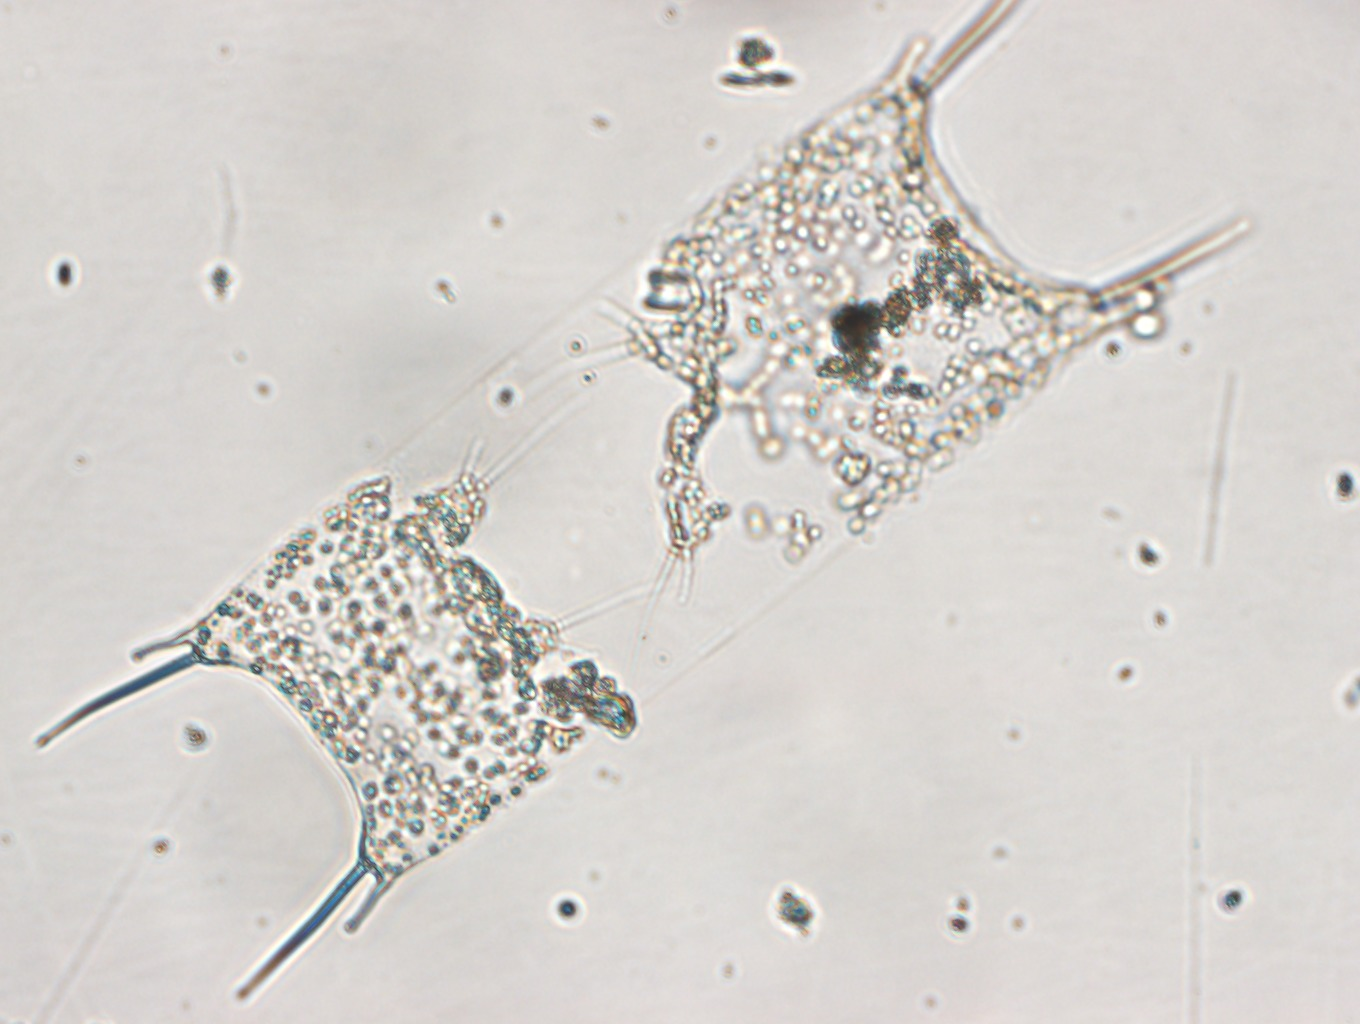biddulphia: (37, 1, 1252, 1001)
